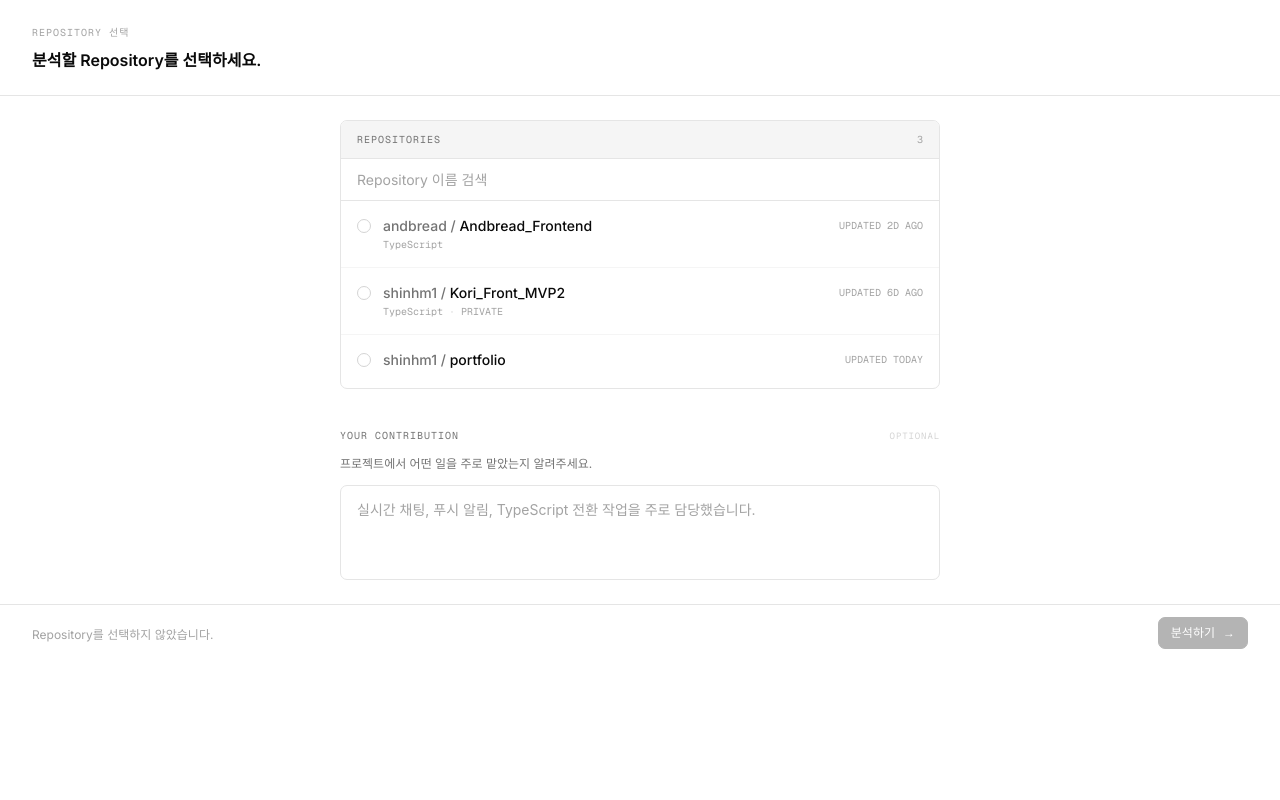
Test: RepositorySelectScreen 목록 › 검색 결과가 없으면 카드 안에 안내를 그리고 화면은 유지한다
The width and height of the screenshot is (1280, 800).
Expected: the heading "분석할 Repository를 선택하세요." is shown, [32, 50, 261, 70]
Type "nothing-here" into the search field named "Repository 검색". click: (640, 180)
box: [341, 159, 939, 200]
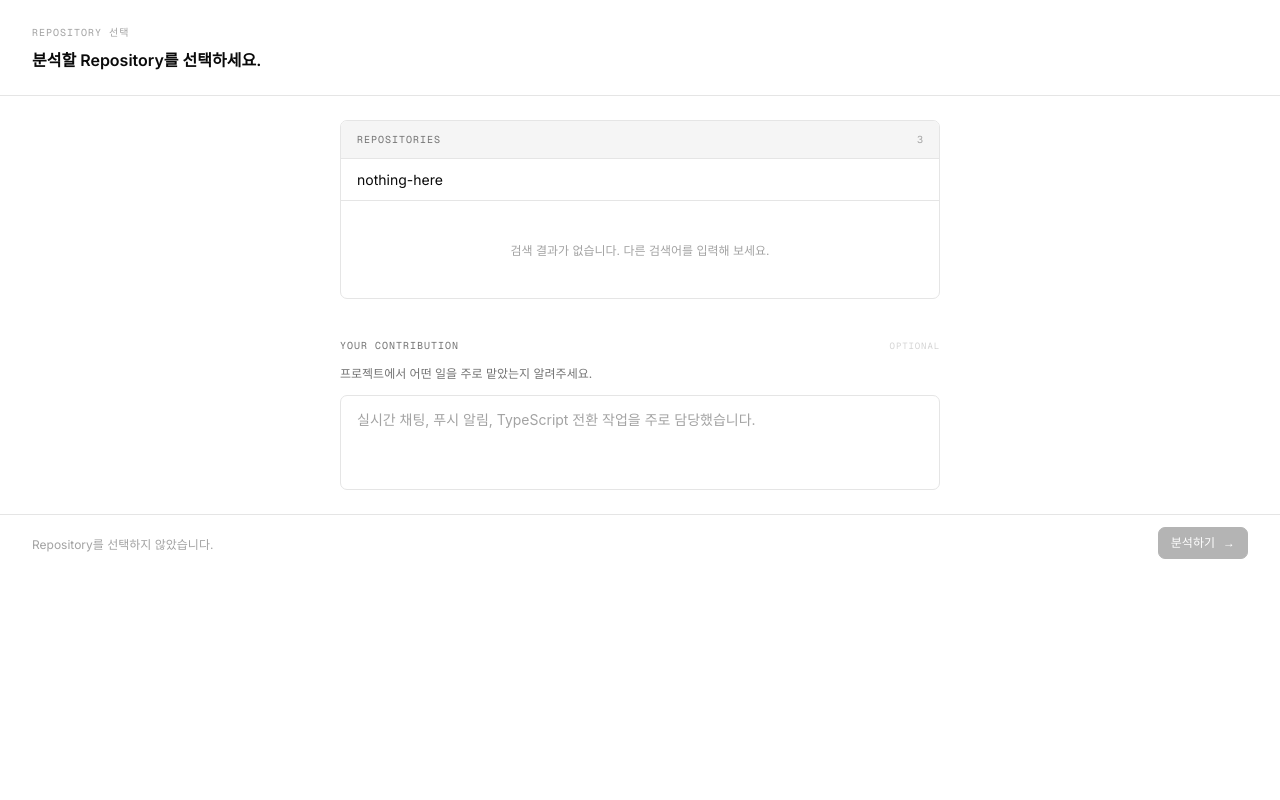
Expected: the heading "분석할 Repository를 선택하세요." is shown, [32, 50, 261, 70]
Expected: the text "검색 결과가 없습니다. 다른 검색어를 입력해 보세요." is shown, [510, 243, 770, 258]
Expected: the radio button is gone
